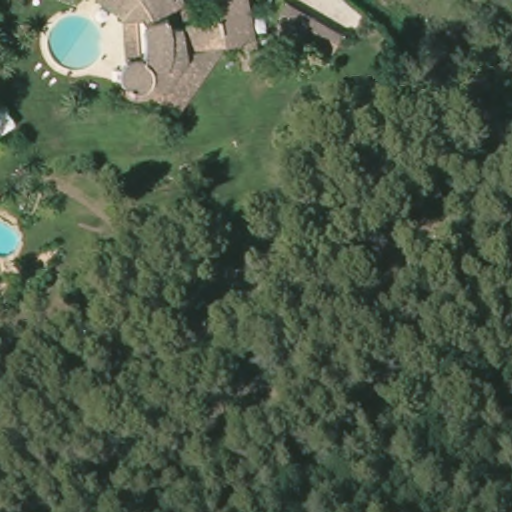pool: (36, 9, 113, 75), (1, 215, 25, 261)
